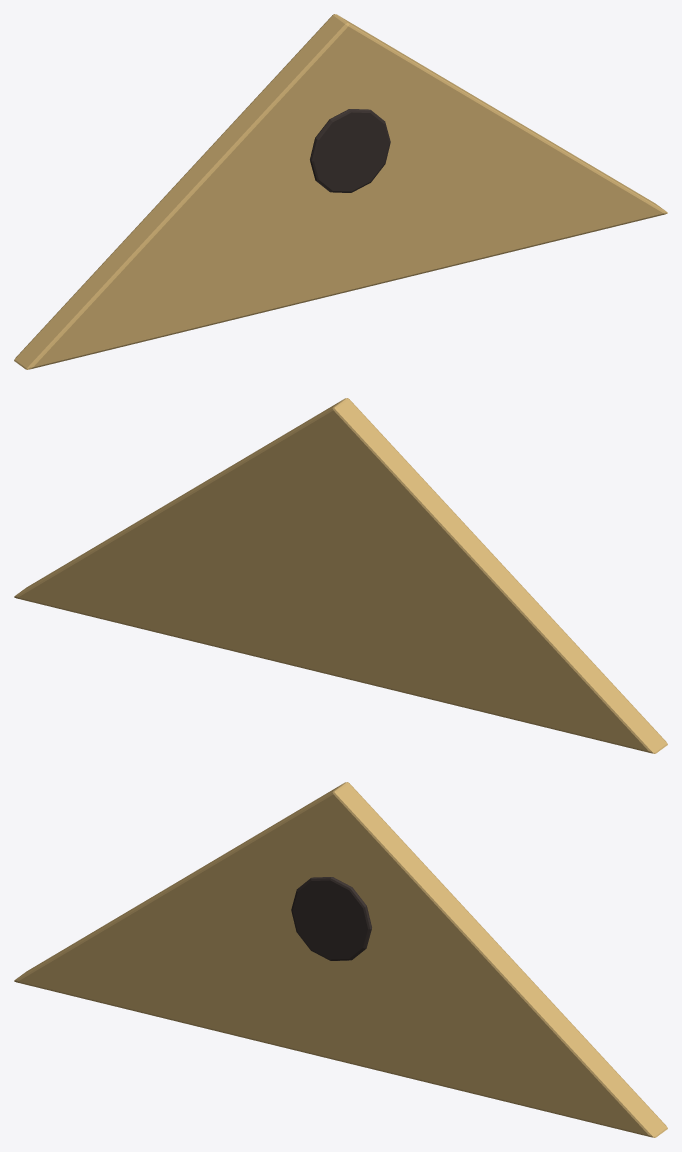
Rendered from gable_end_4m__finish.glb.
The picture shows the model from 3 angles, top to bottom: view 1: azimuth 30°, elevation 25°; view 2: azimuth 150°, elevation 25°; view 3: azimuth 330°, elevation 25°; orthographic projection.
Parts seen in each view (by area): view 1: gable_end_4m__finish__mesh_00; view 2: gable_end_4m__finish__mesh_00; view 3: gable_end_4m__finish__mesh_00.
Part boxes in pixels (box(x1,y1,x2,y2)): gable_end_4m__finish__mesh_00: box(14, 14, 667, 369); gable_end_4m__finish__mesh_00: box(14, 398, 667, 753); gable_end_4m__finish__mesh_00: box(14, 782, 667, 1137).
Size of the model in its own units: 3.98 by 1.59 by 0.195.
